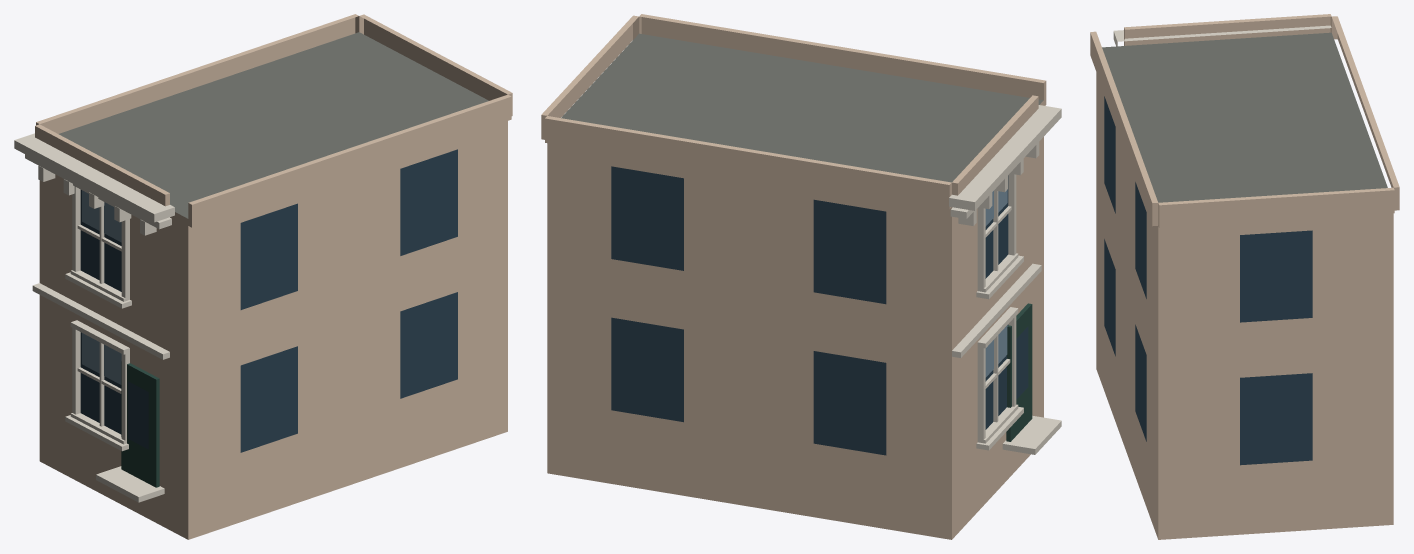
3 renders of one model, left to right at view 1: azimuth 30°, elevation 25°; view 2: azimuth 150°, elevation 25°; view 3: azimuth 270°, elevation 25°, orthographic. The views are drawn at different scales.
Parts seen in each view (by area): view 1: Footprint 0 / surface 2, Footprint 0 / surface 1, Inset glazing, Facade bay volumes, Cornices and window frames, Storefronts and doors, Sky reflection panels; view 2: Footprint 0 / surface 2, Footprint 0 / surface 1, Inset glazing, Facade bay volumes, Cornices and window frames, Storefronts and doors, Sky reflection panels; view 3: Footprint 0 / surface 2, Footprint 0 / surface 1, Inset glazing, Facade bay volumes, Cornices and window frames.
Boxes of the visible parts, box(x1,y1,x2,y2) form: Footprint 0 / surface 2: box(39, 121, 507, 539); Footprint 0 / surface 1: box(58, 32, 488, 218); Inset glazing: box(80, 149, 457, 452); Facade bay volumes: box(35, 14, 512, 227); Cornices and window frames: box(14, 133, 174, 502); Storefronts and doors: box(121, 361, 159, 487); Sky reflection panels: box(82, 190, 121, 384); Footprint 0 / surface 2: box(547, 100, 1043, 539); Footprint 0 / surface 1: box(561, 33, 1043, 182); Inset glazing: box(611, 166, 1028, 455); Facade bay volumes: box(541, 14, 1046, 209); Cornices and window frames: box(949, 105, 1061, 454); Storefronts and doors: box(1006, 303, 1032, 441); Sky reflection panels: box(985, 190, 1007, 377); Footprint 0 / surface 2: box(1096, 72, 1393, 539); Footprint 0 / surface 1: box(1102, 32, 1387, 202); Inset glazing: box(1104, 96, 1312, 465); Facade bay volumes: box(1090, 14, 1399, 228); Cornices and window frames: box(1113, 25, 1331, 46).
Size of the model in its own units: 9.33 by 7.33 by 6.09.
